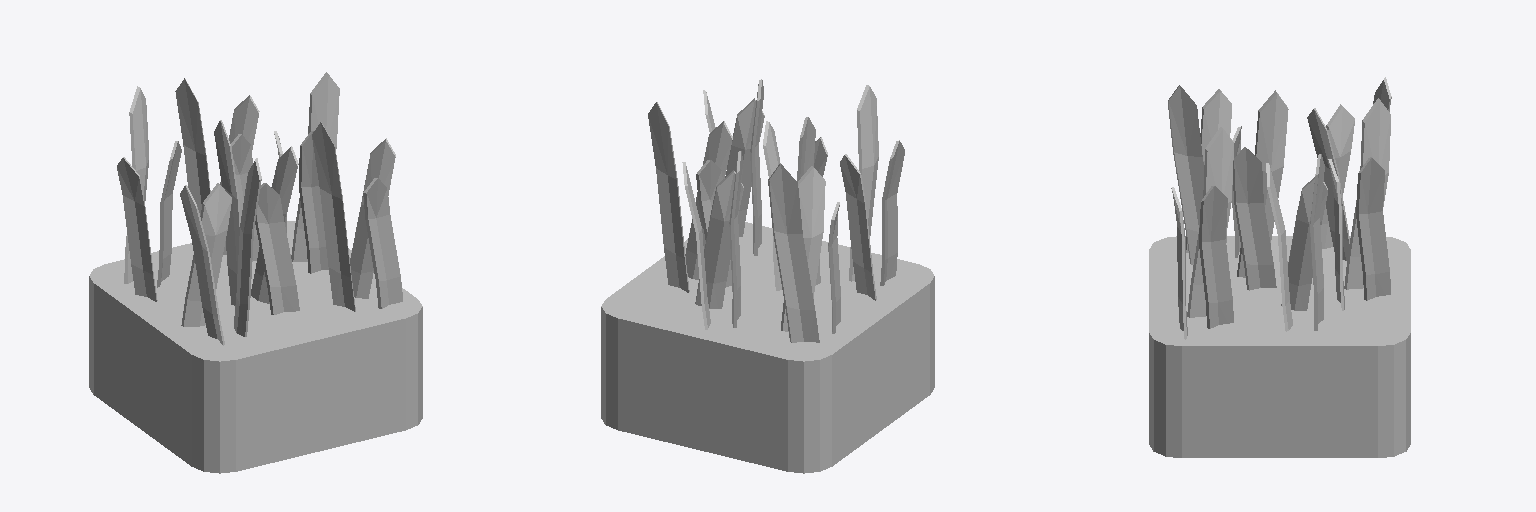
The model's file is tile_tallgrass.obj.
3 renders of one model, left to right at view 1: azimuth 30°, elevation 25°; view 2: azimuth 150°, elevation 25°; view 3: azimuth 270°, elevation 25°, orthographic.
Parts seen in each view (by area): view 1: Plane.002; view 2: Plane.002; view 3: Plane.002.
Part boxes in pixels (x1,y1,x2,y2): Plane.002: (89,72,422,473); Plane.002: (601,79,934,473); Plane.002: (1149,77,1410,457).
Size of the model in its own units: 2 by 2.48 by 2.